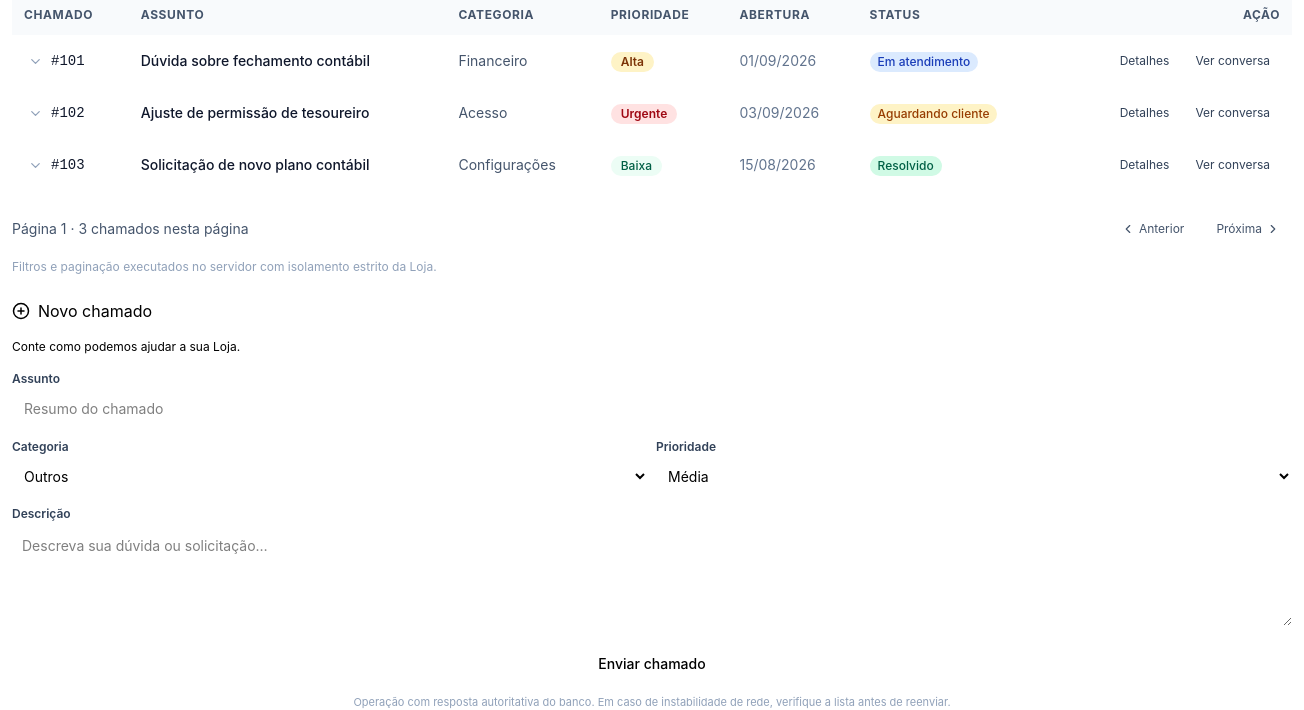
Test: Chamados (view-chamados) › blocks re-submission when ticket creation result is uncertain and preserves text
This screenshot has width=1304, height=710.
(page scrolled)
Expected: the text "Dúvida sobre fechamento contábil" is shown, [129,35,446,87]
Type "Falha transiente testada" into the field labelled "Assunto" at {"x": 652, "y": 409}, box [12,391,1292,427]
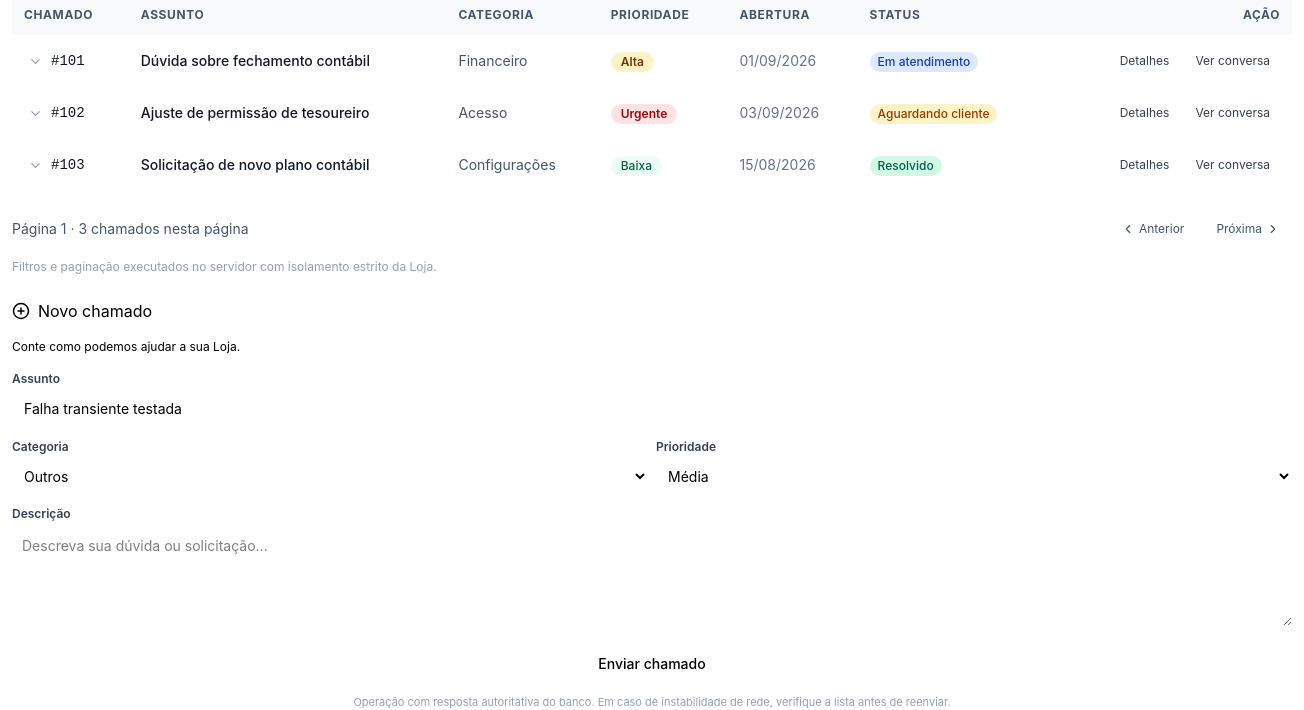
Type "Descrição importante preservada" into the text box labelled "Descrição" at {"x": 652, "y": 576}, box [12,526,1292,626]
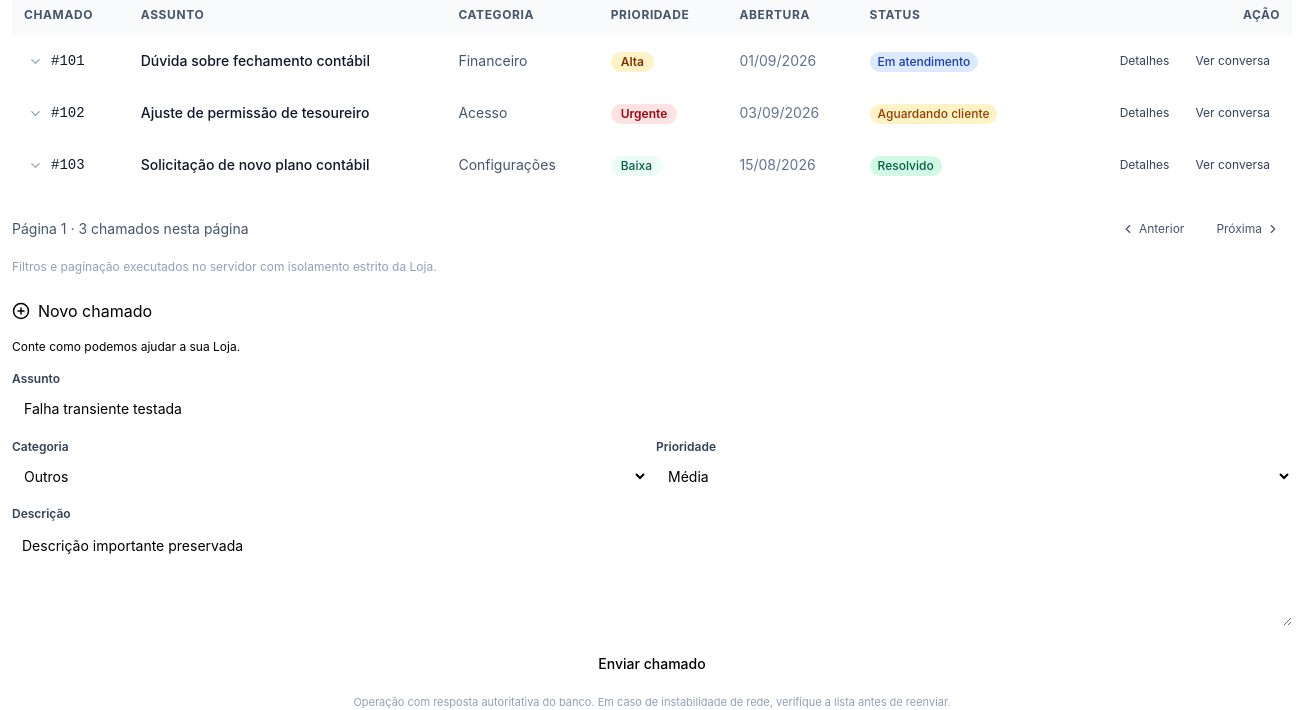
Click the button "Enviar chamado" at {"x": 652, "y": 664}, box [12,644,1292,684]
(page scrolled)
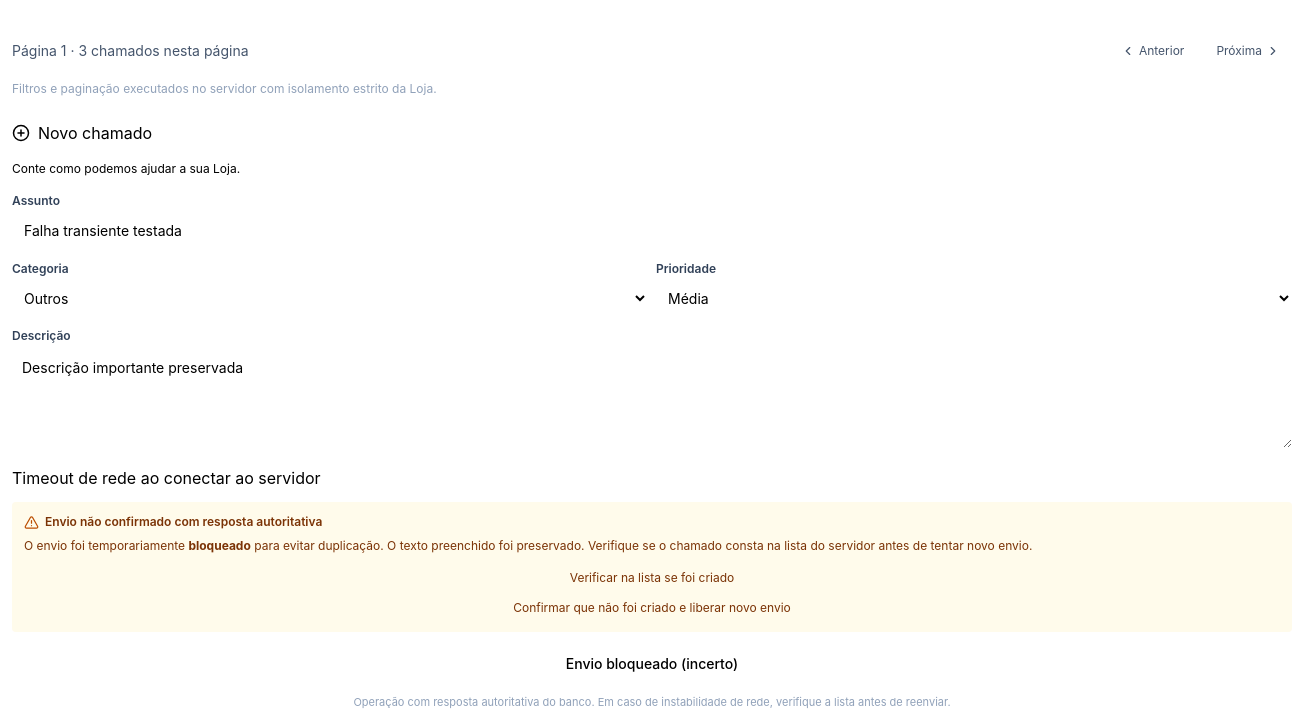
Expected: the text "Envio não confirmado com resposta autoritativa" is shown, [24,514,322,530]
Expected: the button "Envio bloqueado (incerto)" is disabled, [12,644,1292,684]
Explicit recovery button unblocks
Click the button "Confirmar que não foi criado e liberar novo envio" at {"x": 652, "y": 608}, box [24,596,1280,620]
(page scrolled)
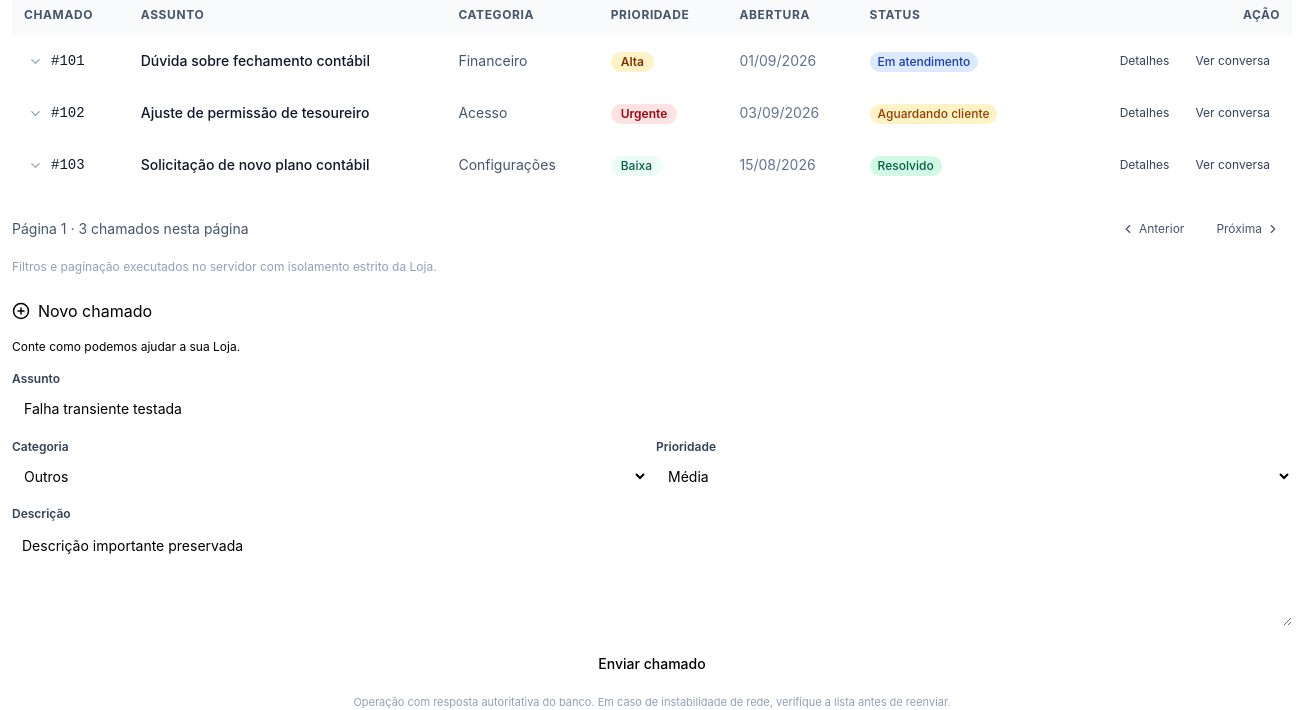
Expected: the button "Enviar chamado" is enabled, [12,644,1292,684]
